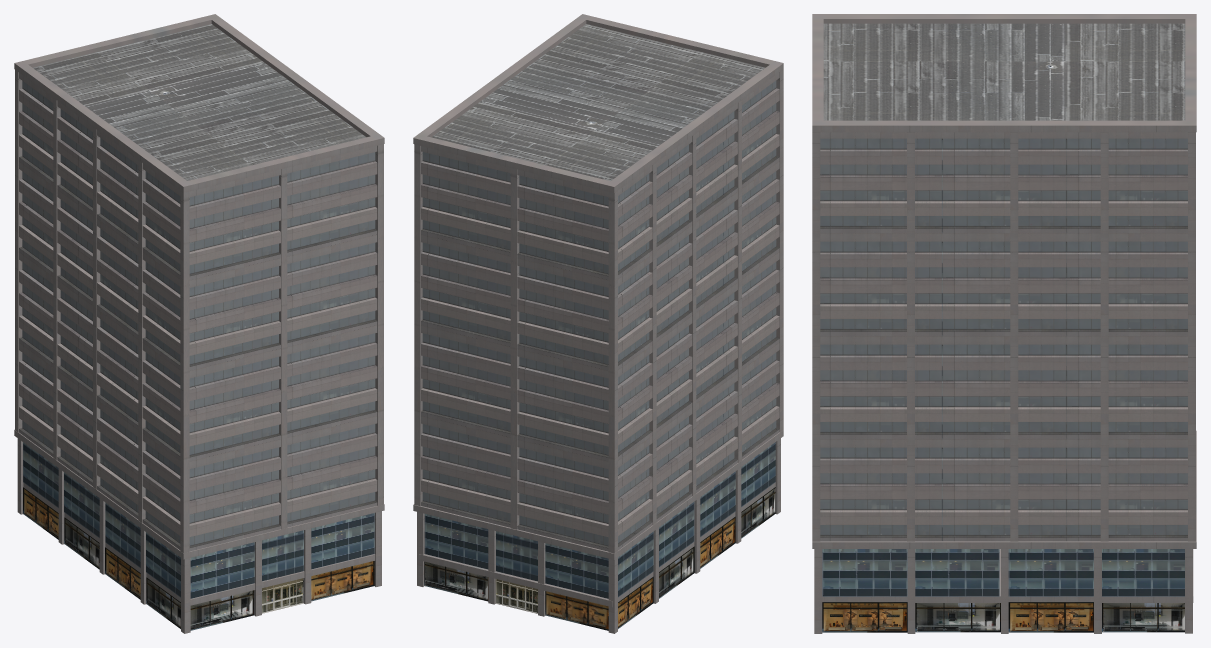
3 views of the same model, side by side, from view 1: azimuth 30°, elevation 25°; view 2: azimuth 150°, elevation 25°; view 3: azimuth 270°, elevation 25° (orthographic). The views are drawn at different scales.
Parts seen in each view (by area): view 1: Object_59; view 2: Object_59; view 3: Object_59.
Part boxes in pixels (x1,y1,x2,y2): Object_59: (14, 14, 384, 633); Object_59: (413, 14, 783, 633); Object_59: (812, 14, 1196, 633).
Bounding box in the file's own units: 1.83 × 3.89 × 2.66.
1 material, 1 textured.
